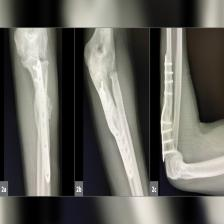longitudinal-fracture: (0, 26, 224, 198)
